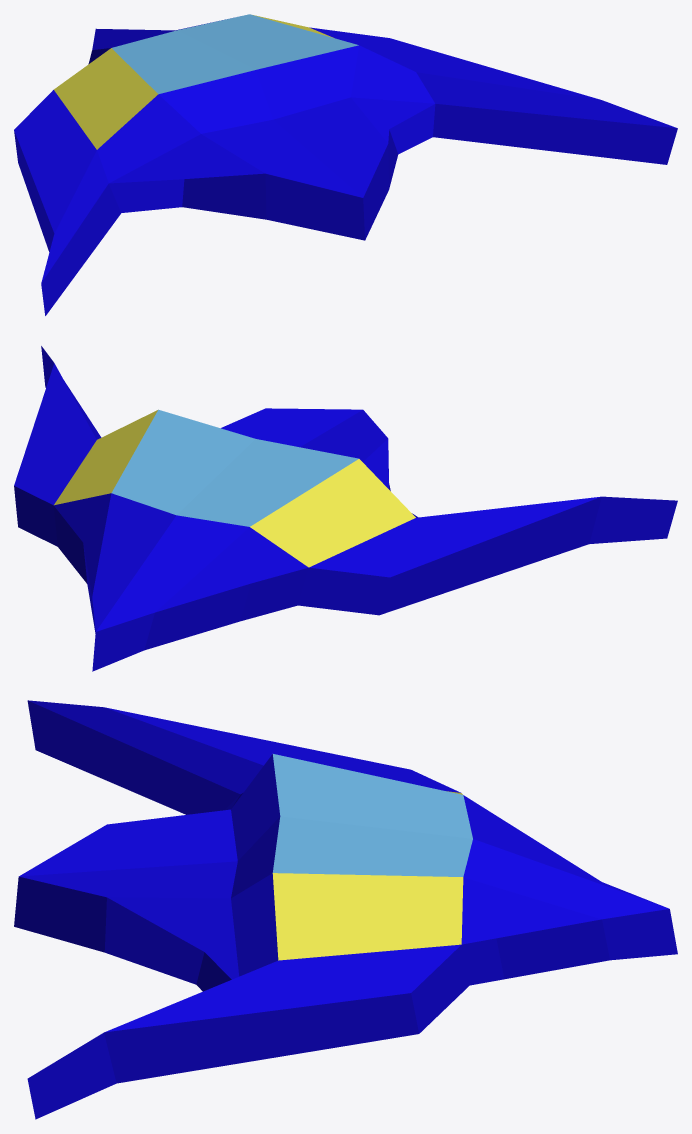
The model's file is ship.glb.
The picture shows the model from 3 angles, top to bottom: view 1: azimuth 30°, elevation 25°; view 2: azimuth 150°, elevation 25°; view 3: azimuth 270°, elevation 25°; orthographic projection. The views are drawn at different scales.
Parts seen in each view (by area): view 1: Cube; view 2: Cube; view 3: Cube.
Part boxes in pixels (box(x1,y1,x2,y2)): Cube: box(14, 14, 677, 315); Cube: box(14, 346, 677, 671); Cube: box(14, 700, 677, 1119).
Size of the model in its own units: 5.18 by 0.8997 by 3.84.
